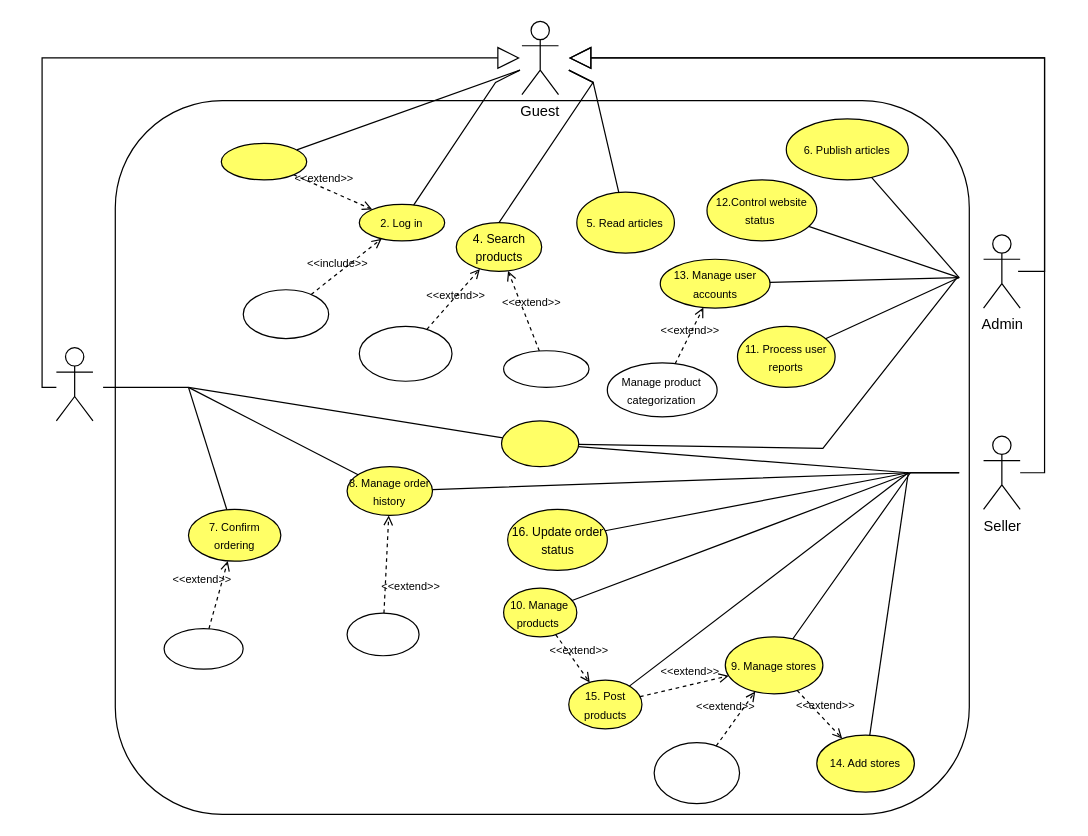
Image size: 1088x836. Some labels were removed from this diagram. The shapes that lost their labels are listed below. From the top down, each one's centre as x and y in pixels, then its label:
At [263,161]: "1. Sign up".
At [285,314]: "Check login information".
At [405,353]: "Add to temporary order".
At [545,368]: "View products".
At [74,383]: "Customer".
At [539,443]: "3. Log out".
At [203,648]: "Purchase".
At [382,634]: "Check order information".
At [696,772]: "Check store statistics".
